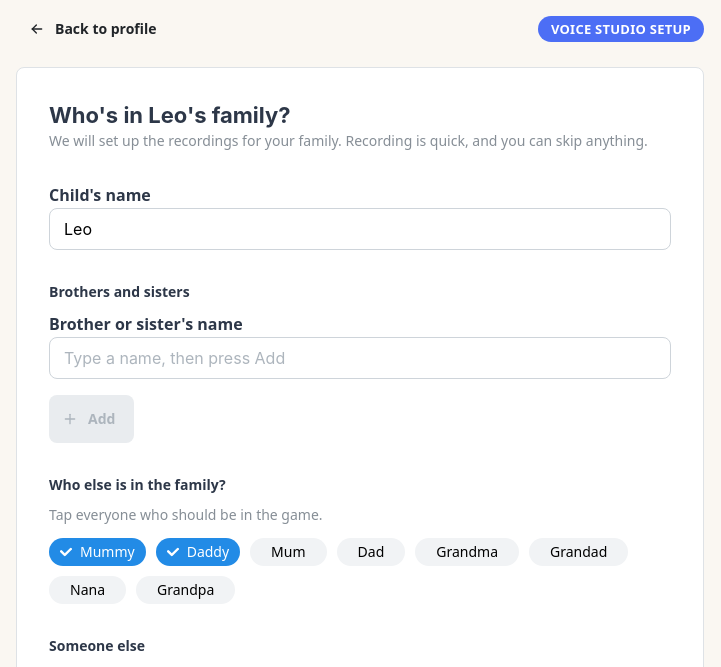
Test: Voice studio › family step › adds a sibling when the form is submitted from the keyboard (Enter)
Expected: the heading "Who's in Leo's family?" is shown, [49,102,291,128]
Type "Finn" into the field labelled "Brother or sister's name".
click(360, 358); type("Finn")  # box [49,337,671,379]
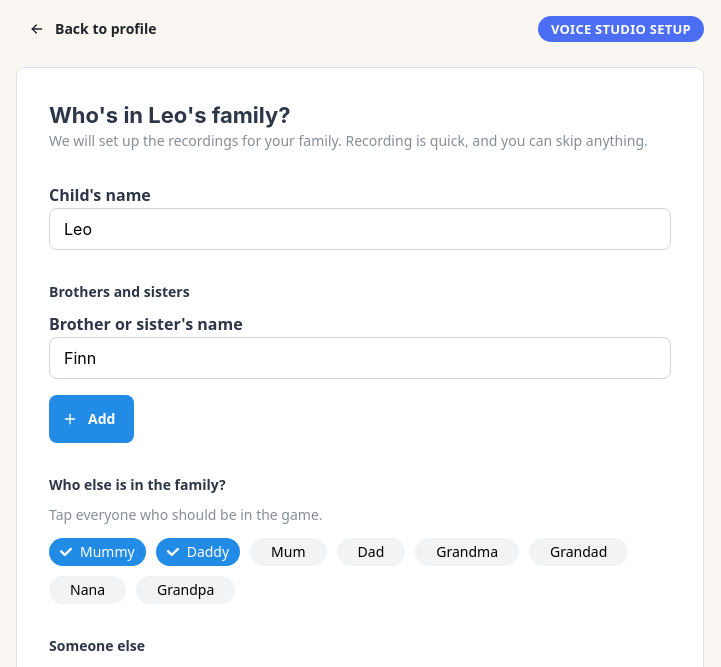
Submit the form labelled "Brother or sister's name", box [49,312,671,443]
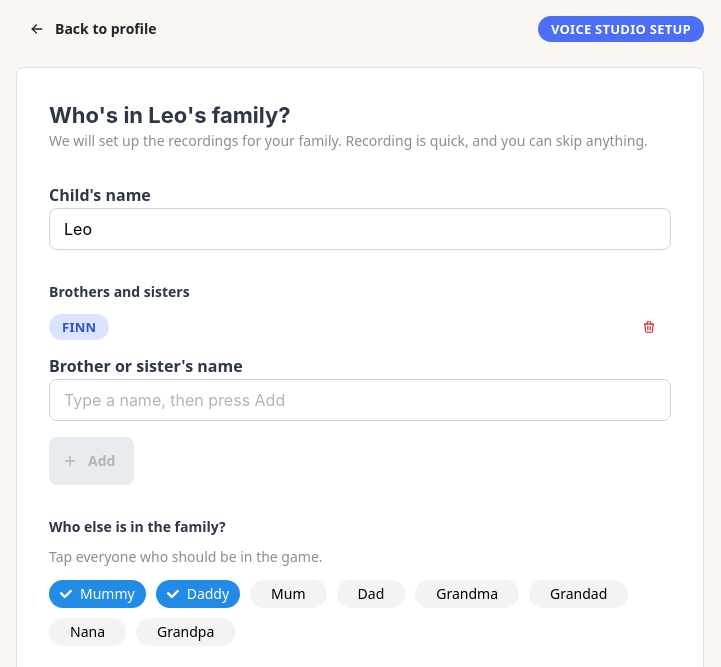
Expected: the text "Finn" is shown, [62,315,96,339]
Expected: the field labelled "Brother or sister's name" is empty, [49,379,671,421]
